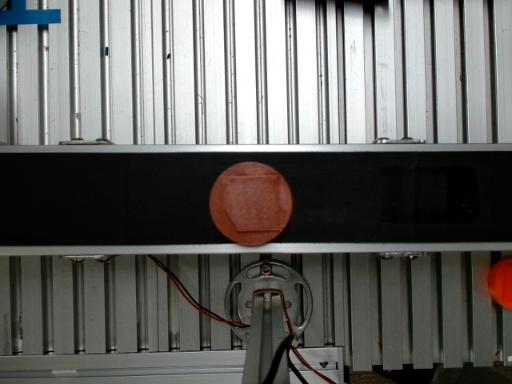Brown_Waper: (210, 162, 292, 246)
Not_Square: (221, 175, 280, 232)
